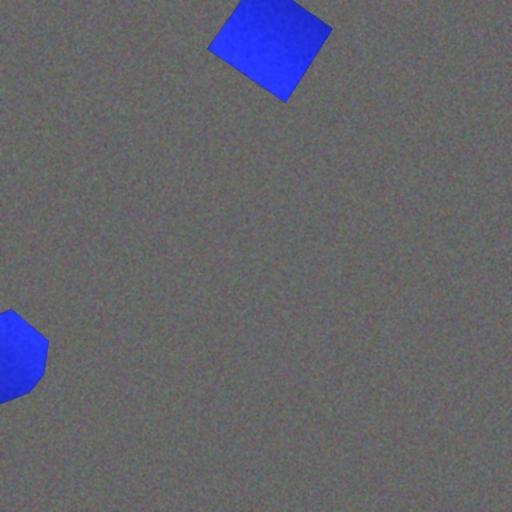BLUE_SQUARE: (206, 0, 334, 104)
